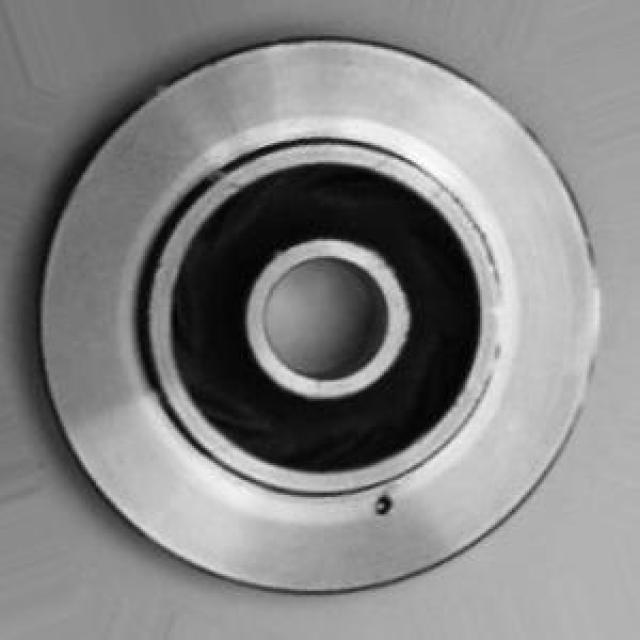Defect: (370, 492, 397, 519)
